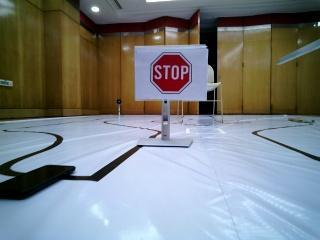stop: (134, 46, 212, 100)
